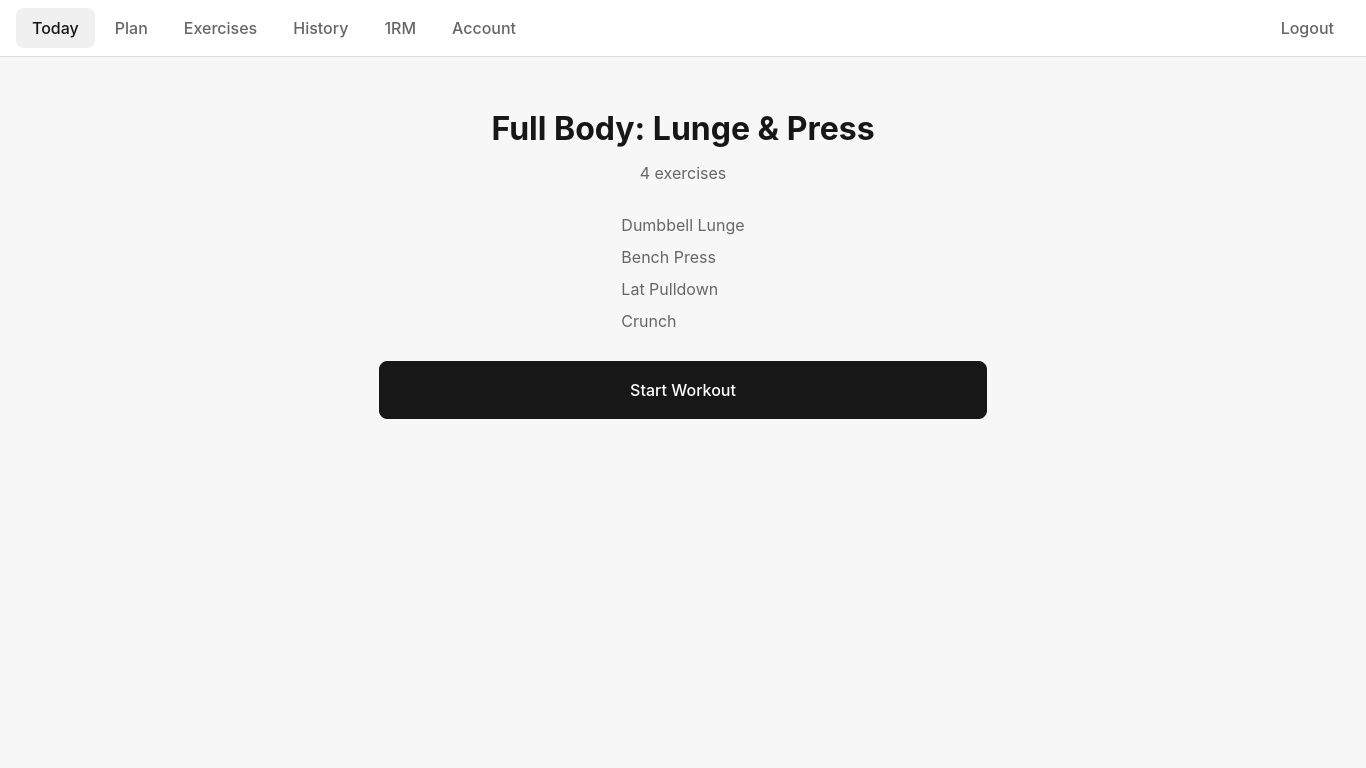
it: useGymTracker actions › swaps today's exercise before any set is logged, without touching the saved plan
Click the button "Start Workout".
click(683, 390)  # box [379,361,987,419]
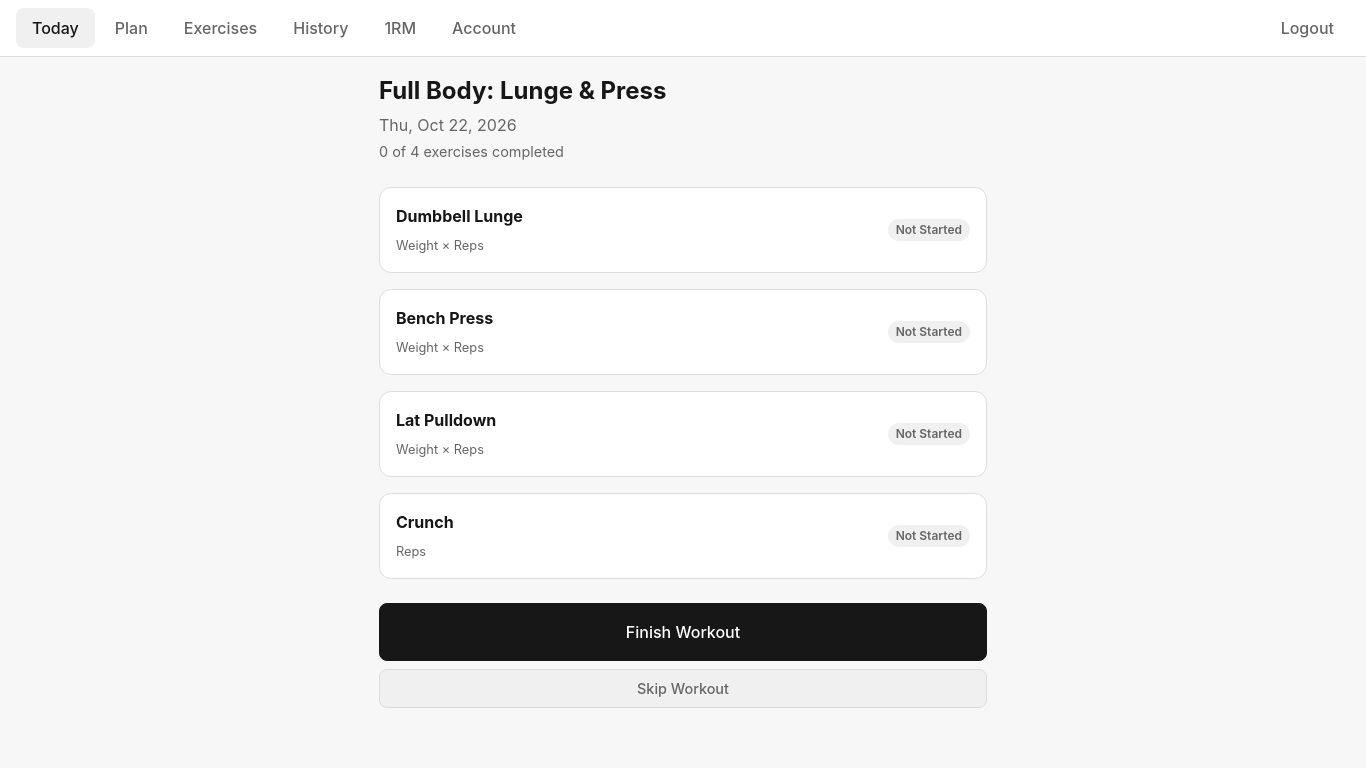
Click the element with class "exercise-card-header" that starts with "Dumbbell Lunge".
click(459, 216)  # box [396,206,970,253]
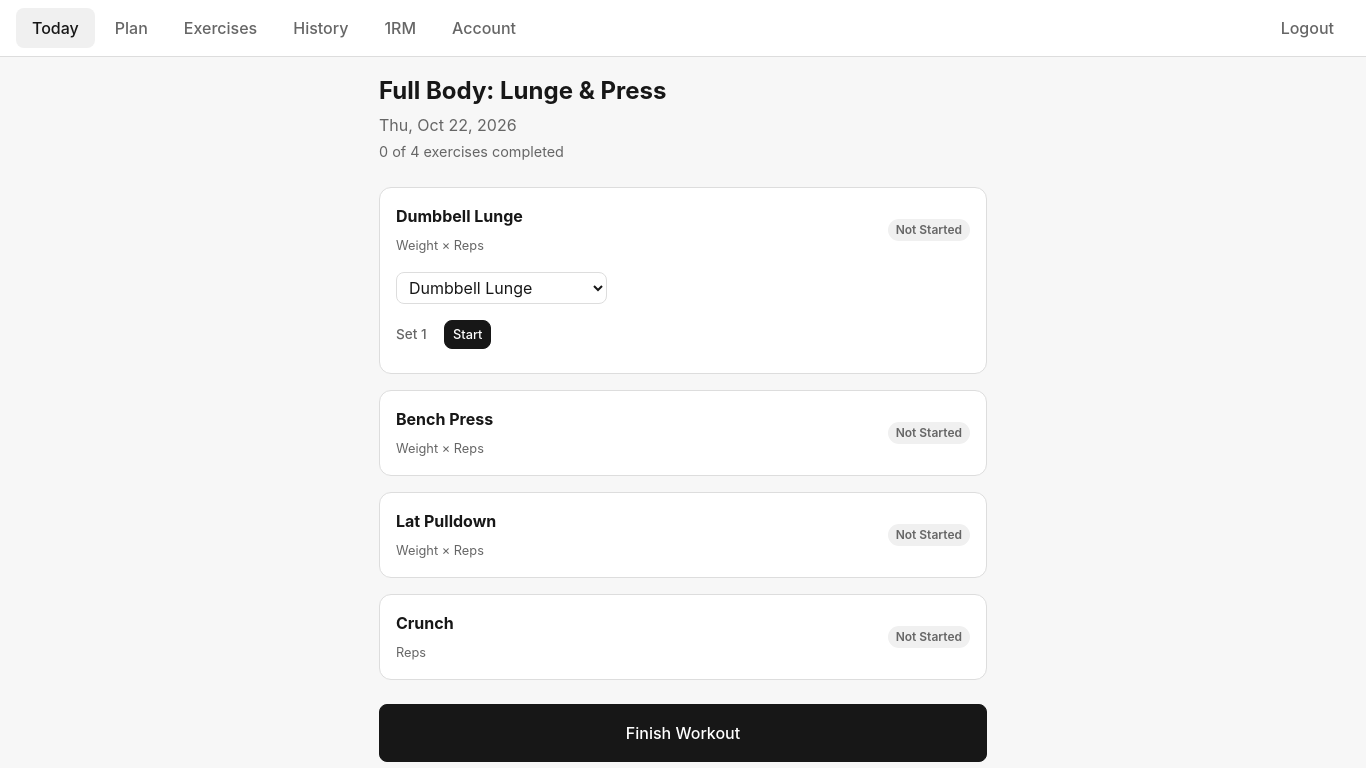
Click the element with class "exercise-card-header" that starts with "Bench Press".
click(445, 419)  # box [396,409,970,456]
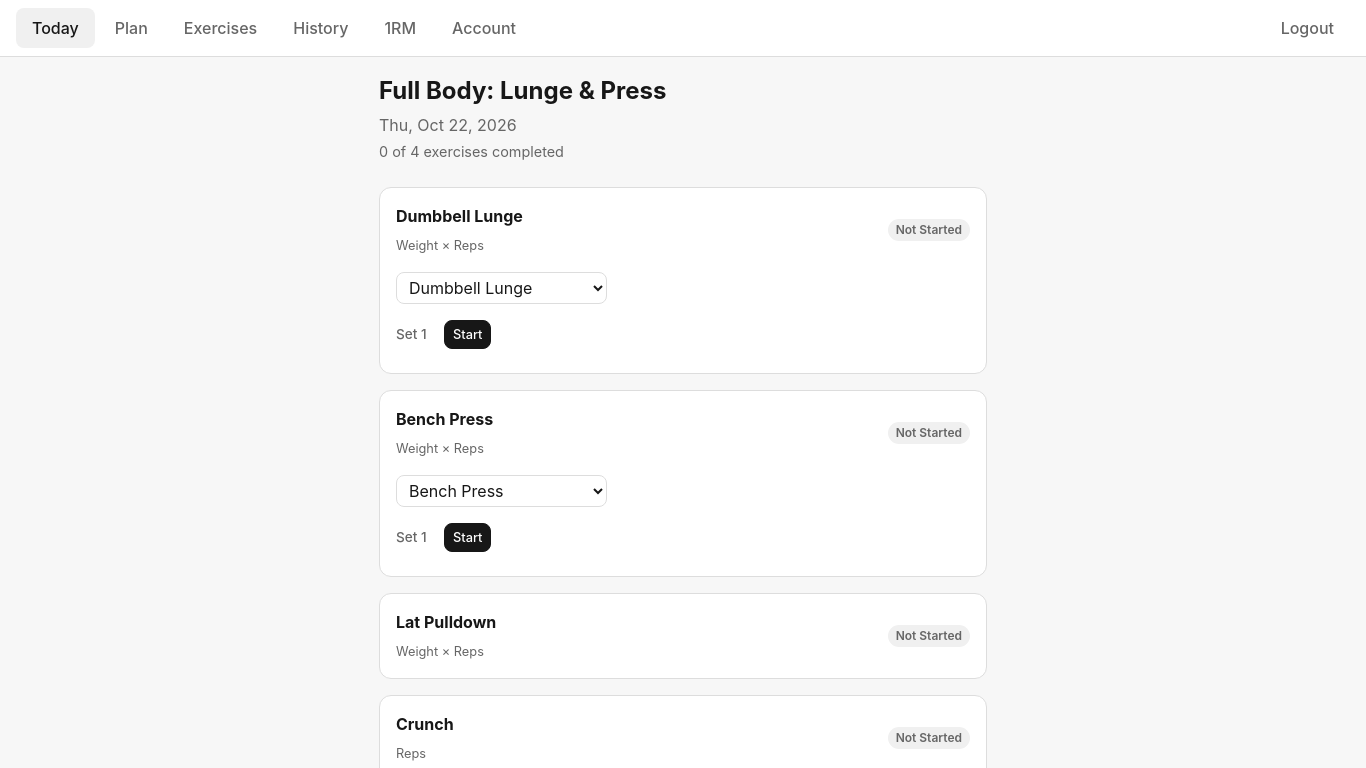
Click the element with class "exercise-card-header" that starts with "Lat Pulldown".
click(446, 622)  # box [396,612,970,659]
(page scrolled)
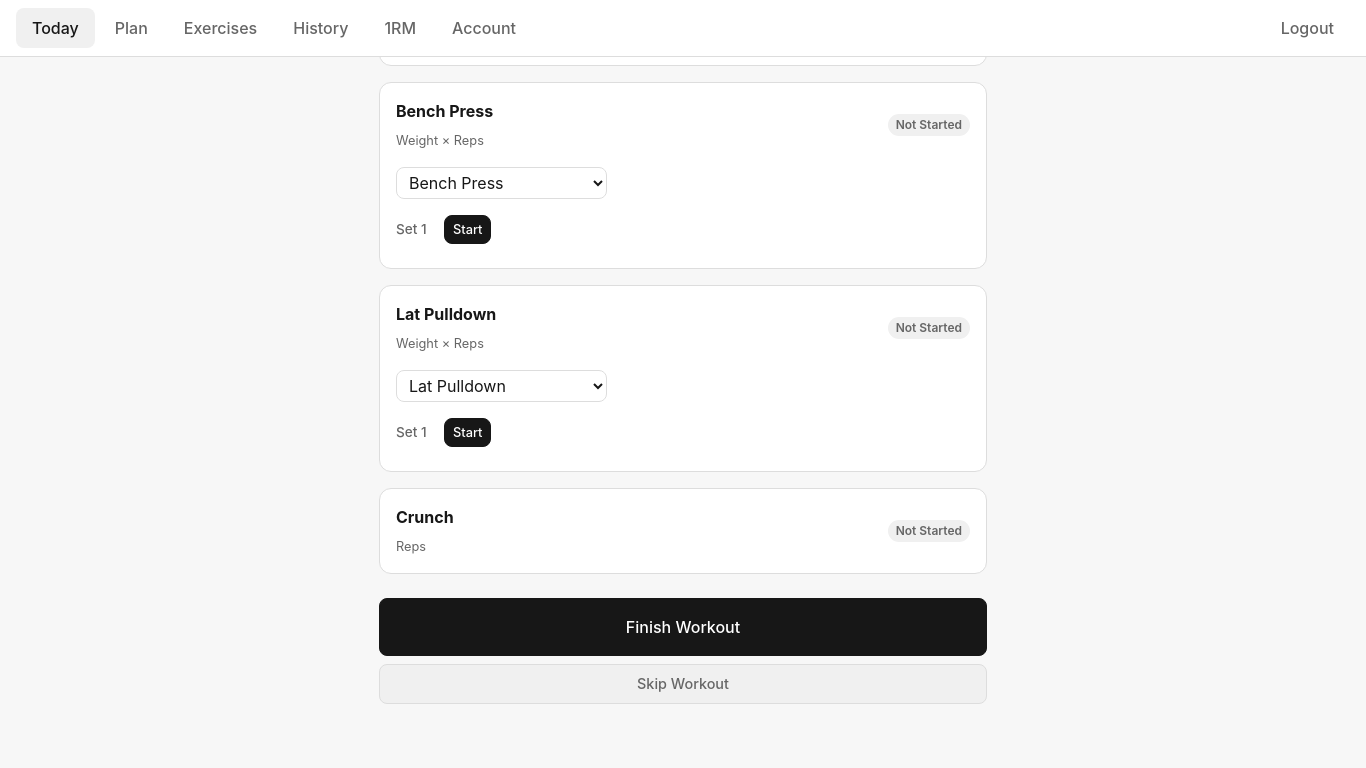
Click the element with class "exercise-card-header" showing "Crunch Reps Not Started".
click(425, 517)  # box [396,507,970,554]
(page scrolled)
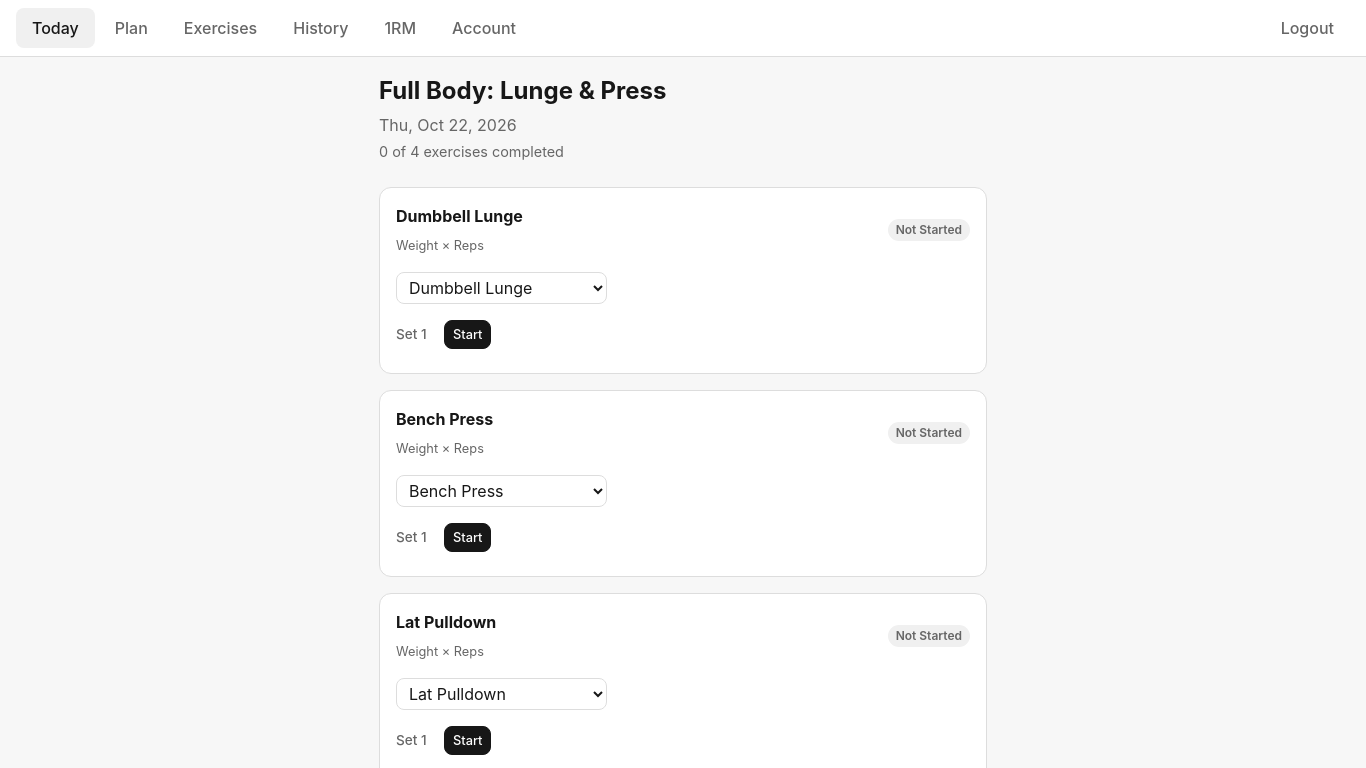
Select "Barbell Lunge" in the dropdown named "Change exercise" below "Dumbbell Lunge" at (502, 288), box [396,272,607,304]
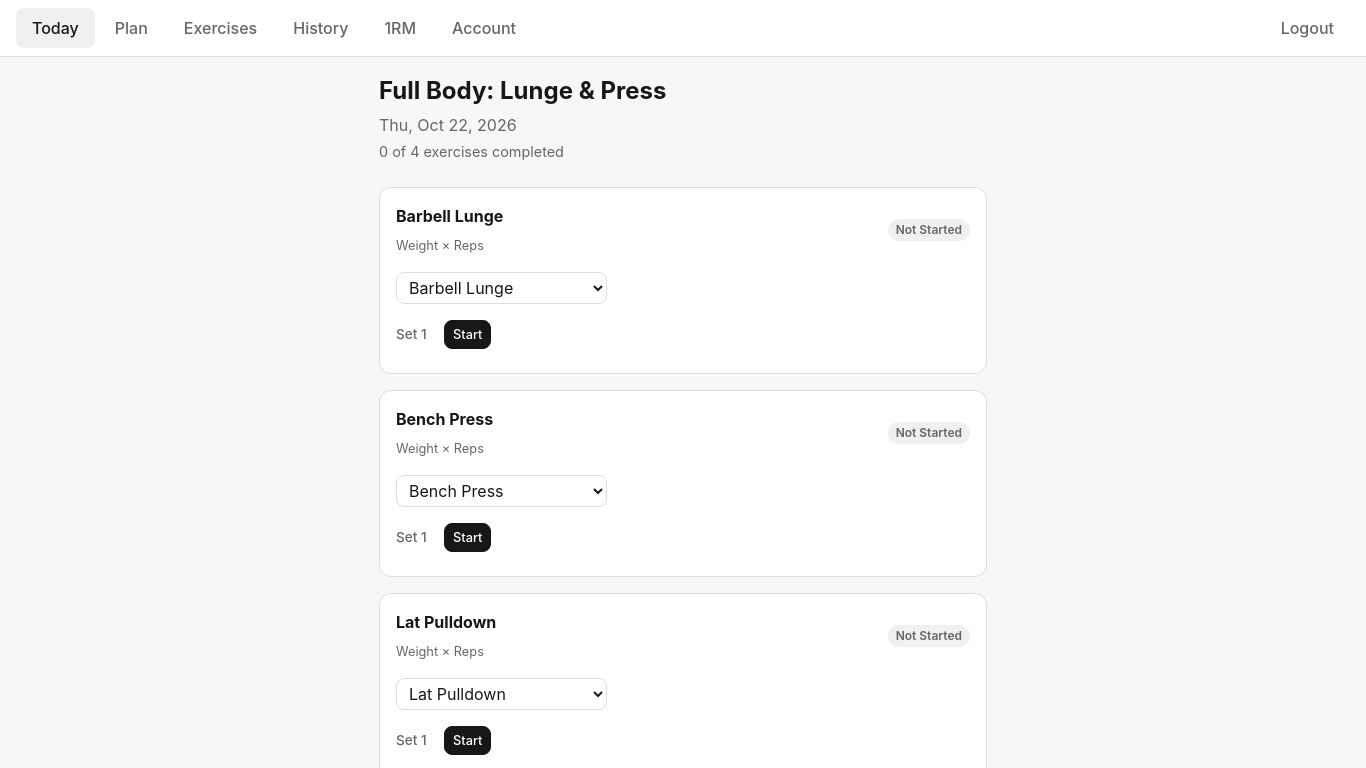
Expected: the heading "Barbell Lunge" is shown, [396,204,503,228]
